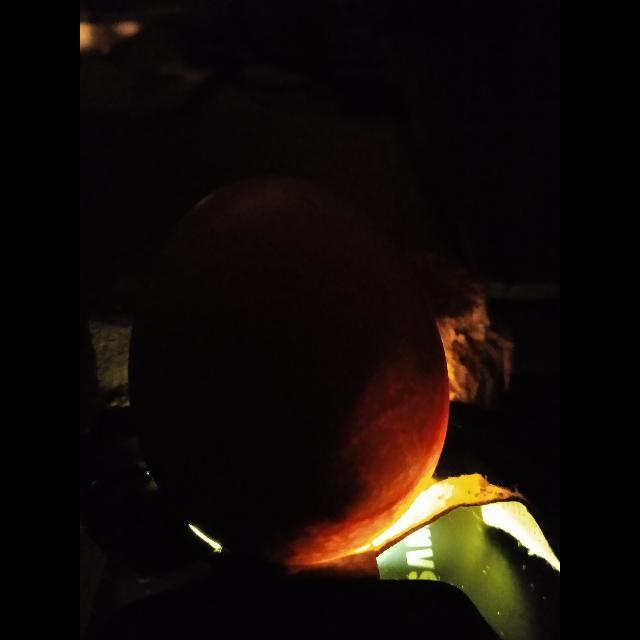Fertile: (142, 190, 452, 564)
